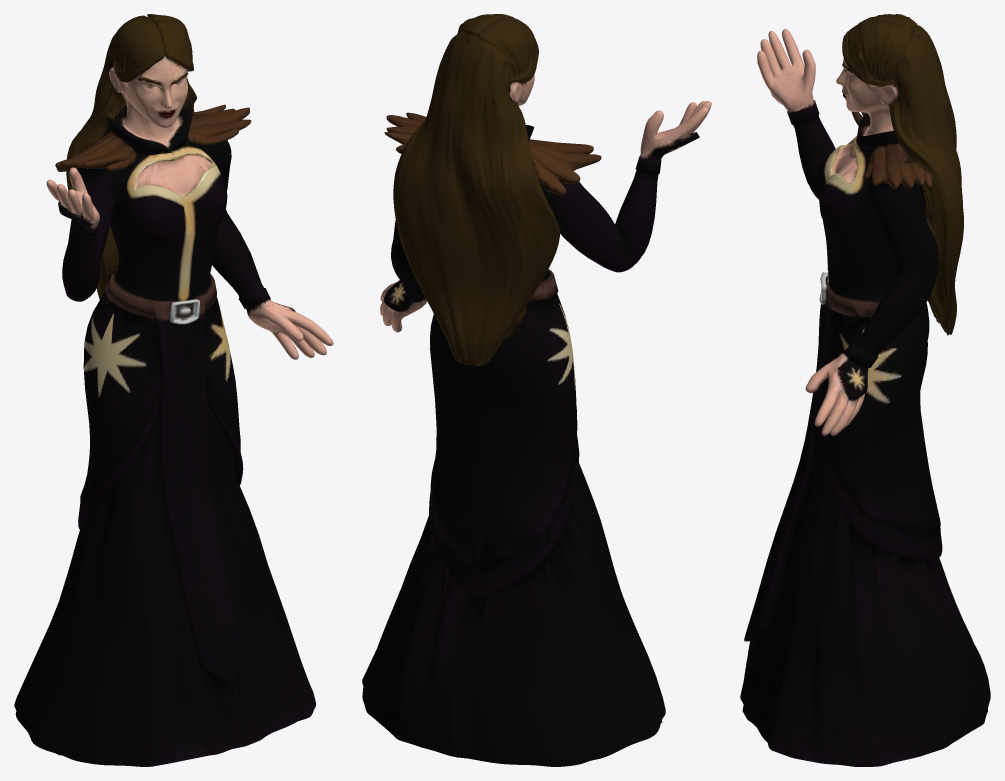
The model's file is MZ4250 - Yalah Gralhund - Human Female.glb.
3 views of the same model, side by side, from view 1: azimuth 30°, elevation 25°; view 2: azimuth 150°, elevation 25°; view 3: azimuth 270°, elevation 25° (orthographic). The views are drawn at different scales.
Parts seen in each view (by area): view 1: default; view 2: default; view 3: default.
Part boxes in pixels (box(x1,y1,x2,y2)): default: box(14, 14, 333, 766); default: box(362, 14, 711, 766); default: box(740, 14, 990, 766).
Size of the model in its own units: 0.5334 by 1.14 by 0.3806.
Materials: 1 (1 with a texture image).
